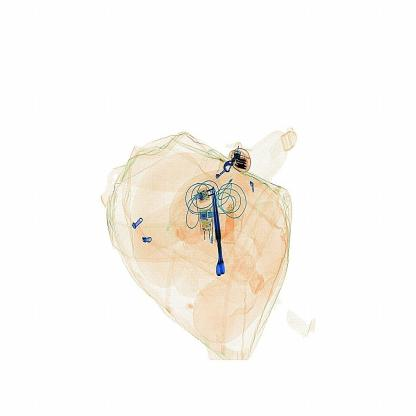gun: (201, 174, 222, 286)
